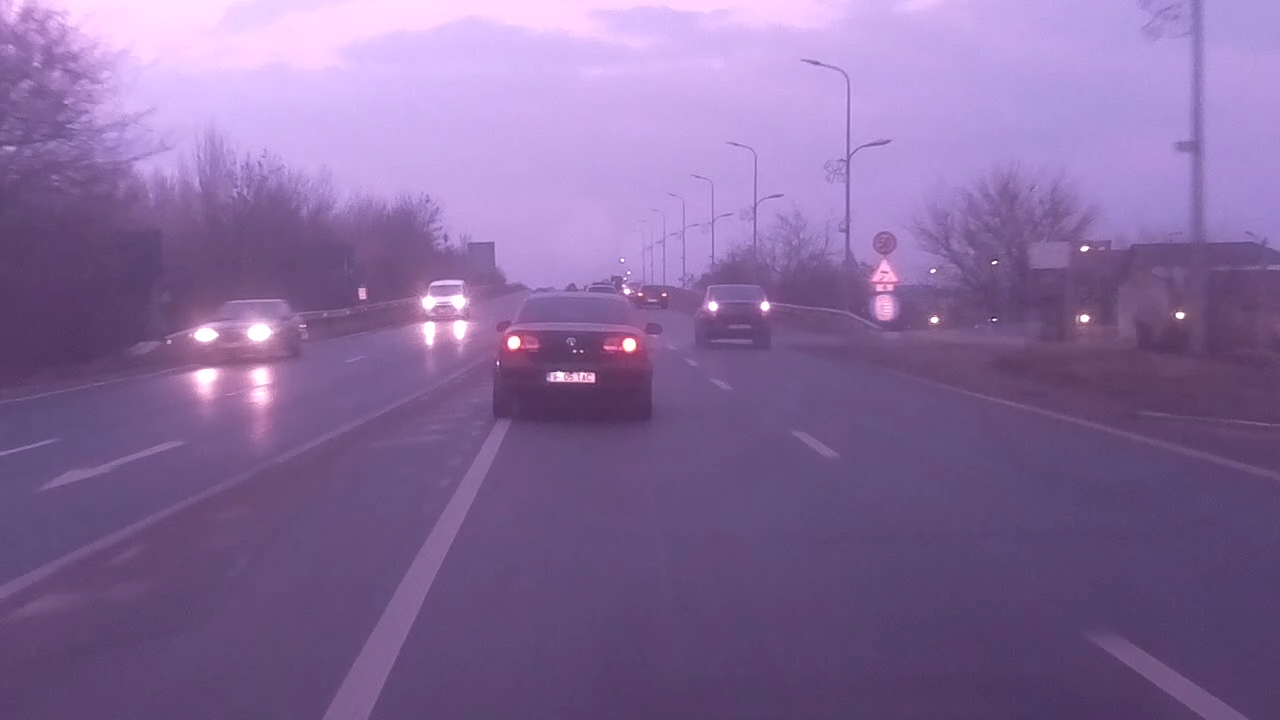license-plate: (544, 369, 598, 385)
